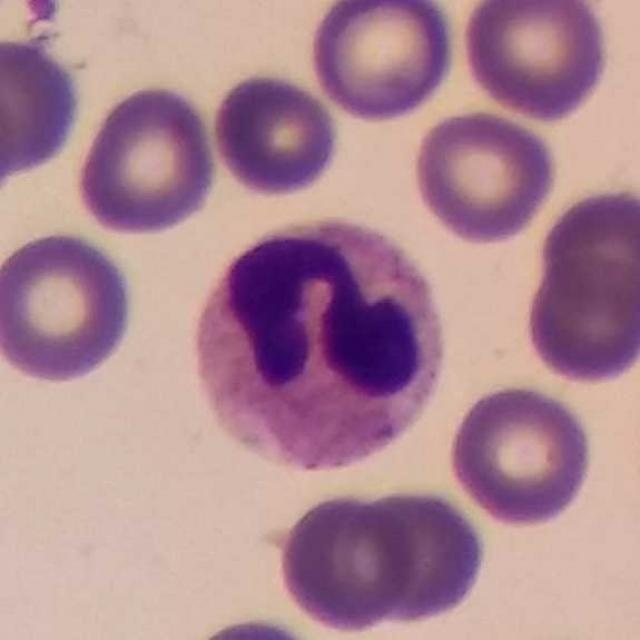Neutrophil: (178, 206, 459, 489)
RBC: (70, 78, 223, 239), (443, 378, 599, 531), (273, 484, 423, 637), (0, 226, 140, 388), (347, 482, 491, 633), (409, 106, 562, 247), (304, 0, 461, 126), (458, 0, 616, 124), (208, 68, 343, 200), (520, 250, 640, 388), (534, 182, 640, 316), (0, 31, 87, 186), (188, 609, 314, 640)
